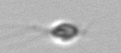plankton: (27, 18, 98, 47)
